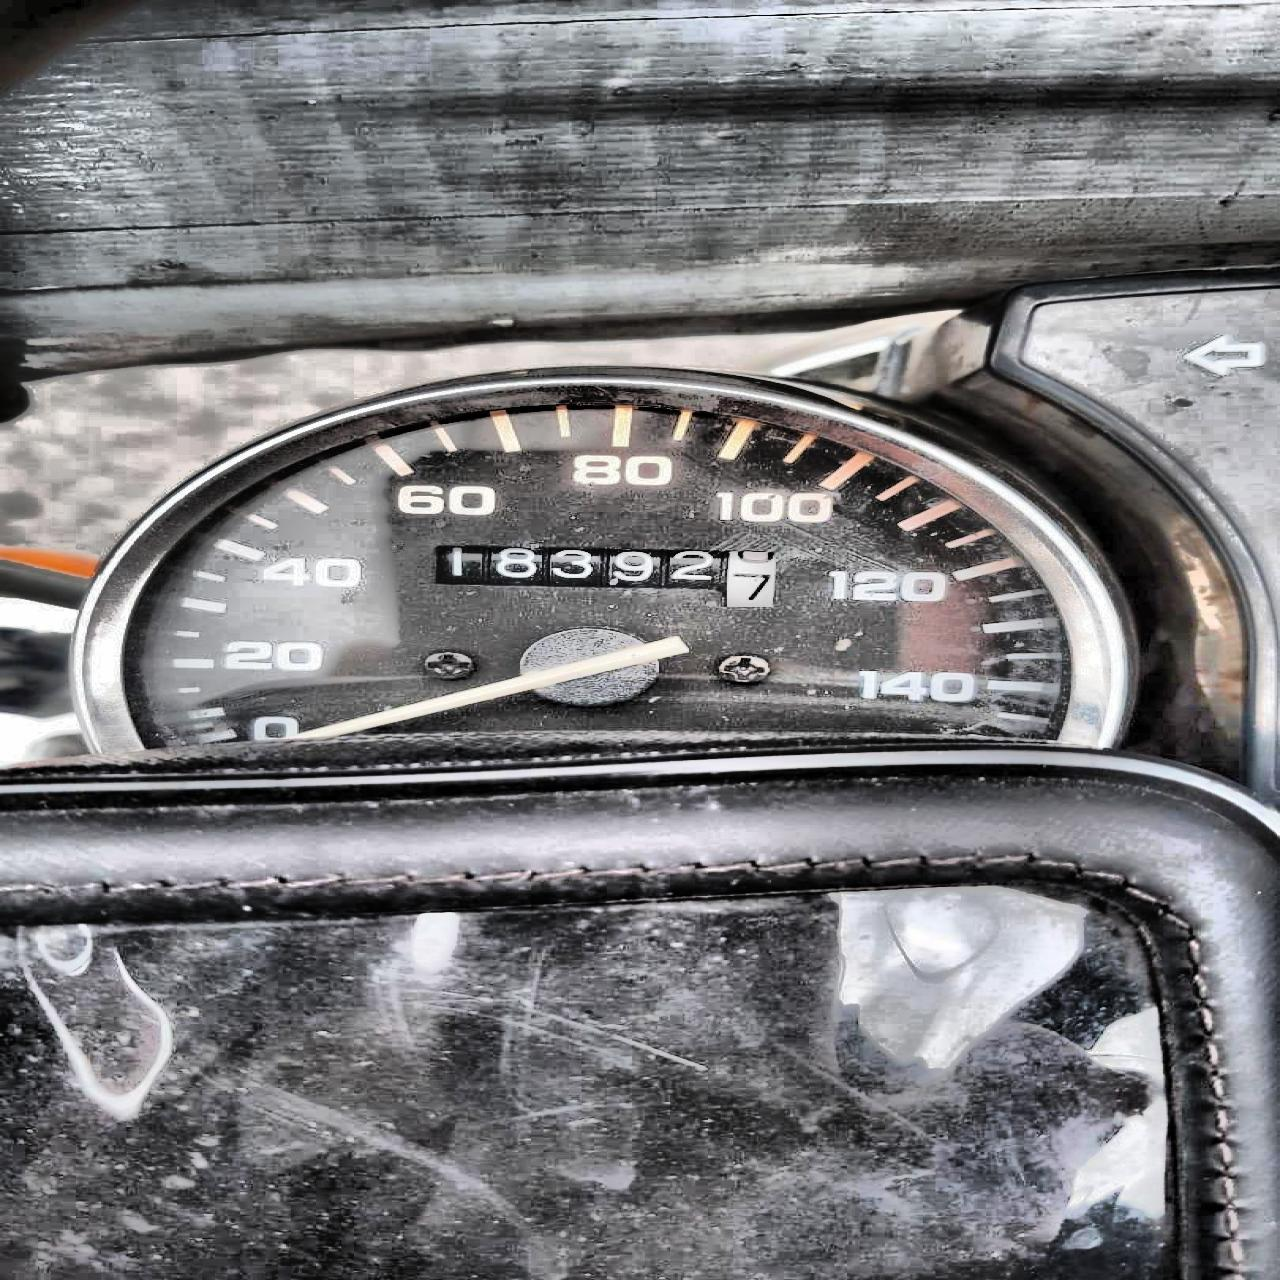1: (441, 545, 472, 577)
2: (667, 549, 714, 581)
3: (549, 546, 595, 579)
7: (727, 568, 771, 602)
8: (491, 546, 540, 578)
9: (608, 549, 654, 581)
odometer: (422, 538, 784, 612)
